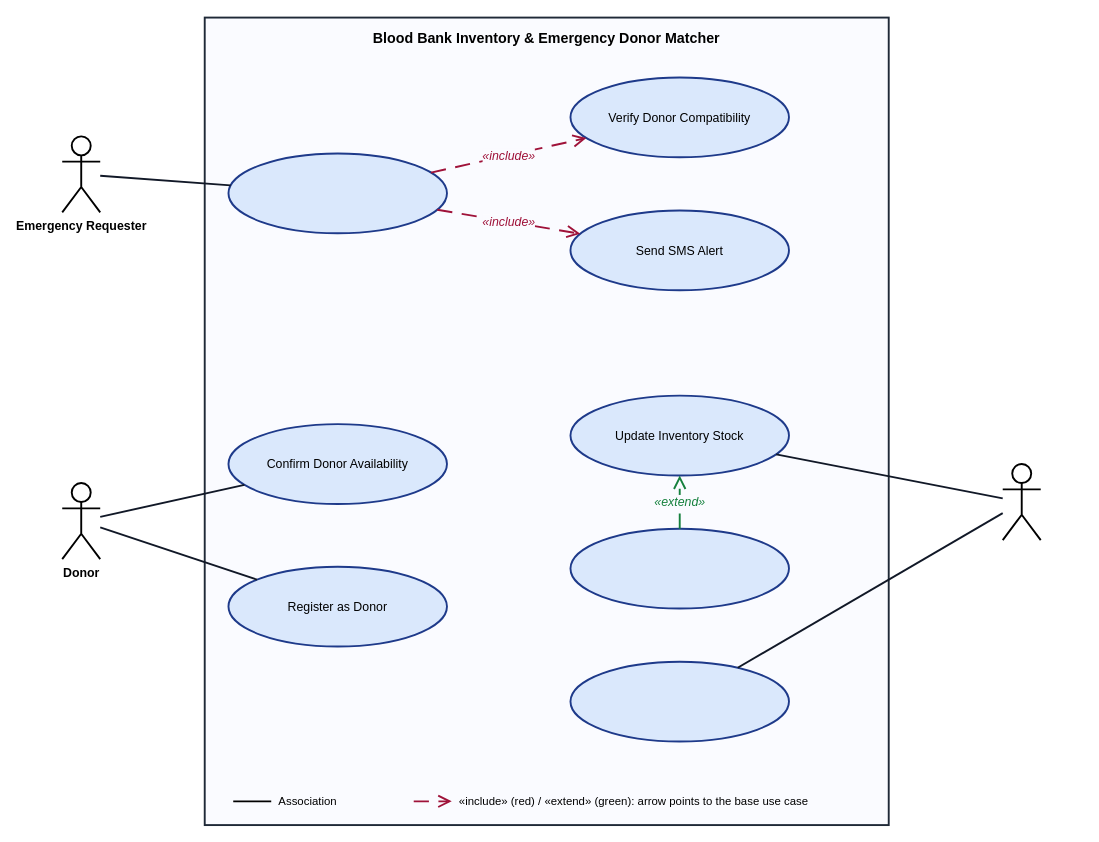
This 1099x842 diagram has some shape labels left out. The centre of each missing label's shape, as x and y in pixels:
Blood Bank Manager: point (1021, 502)
Discard Expired Unit: point (679, 568)
Generate Inventory Report: point (679, 701)
Request Emergency Blood: point (337, 193)
